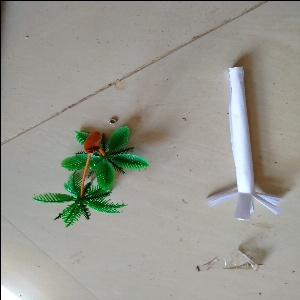plant: (46, 127, 139, 231)
weed: (206, 65, 289, 227)
